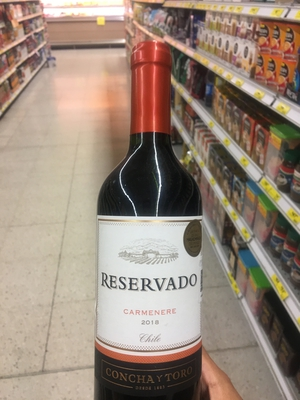reservado carmenere: (89, 30, 209, 400)
